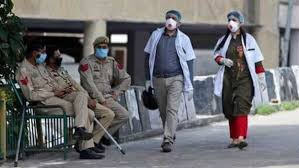mask: (42, 43, 65, 66), (25, 39, 45, 65), (225, 10, 243, 31), (93, 36, 109, 57), (165, 9, 179, 31)
